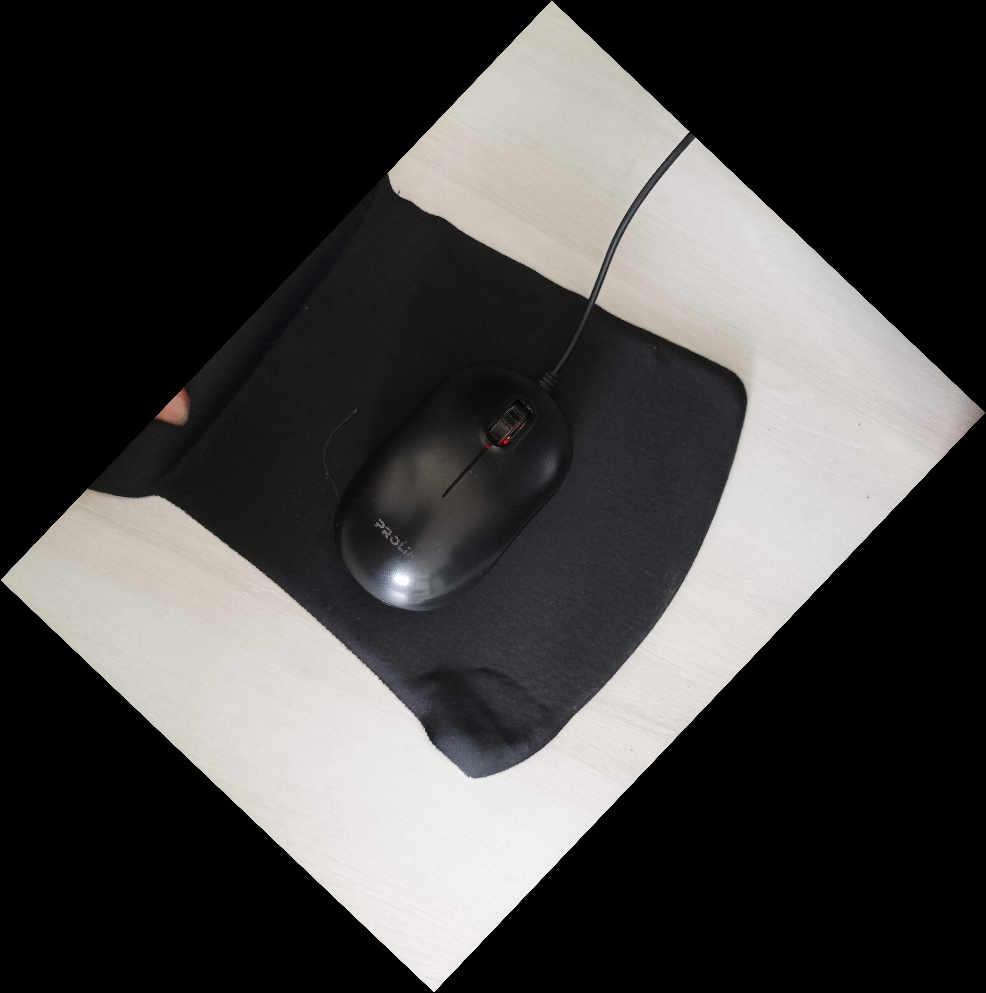mouse: (331, 351, 580, 615)
